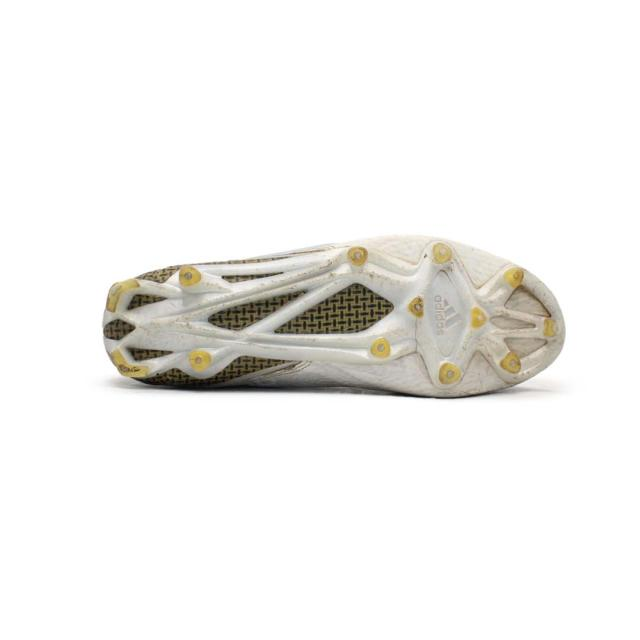outersole: (102, 234, 563, 402)
